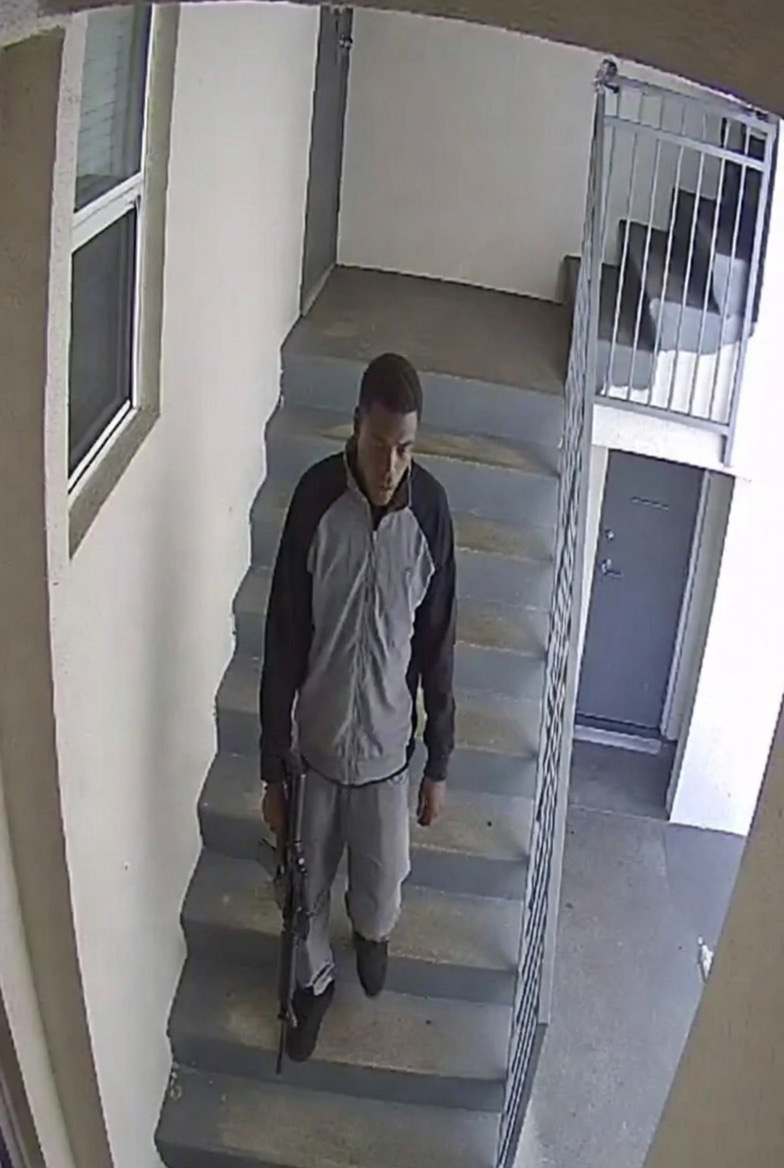gun: (260, 737, 308, 1084)
person: (242, 352, 465, 991)
